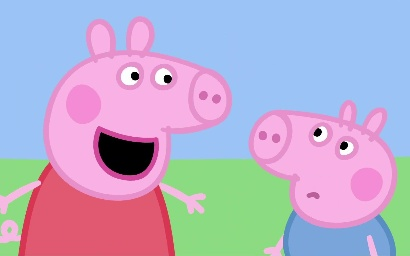Peppa: (1, 13, 235, 256)
